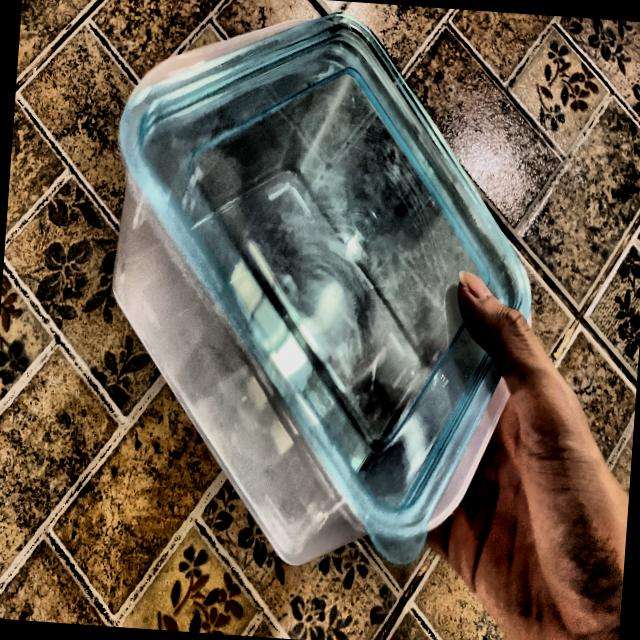plastic container: (109, 19, 521, 552)
